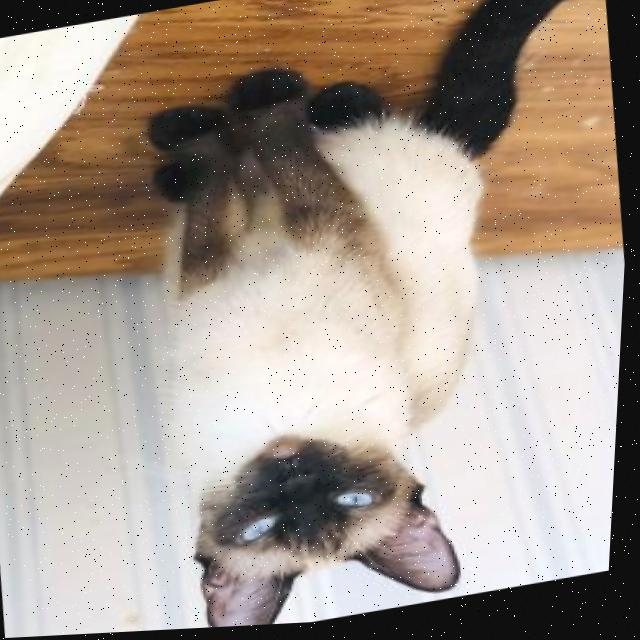Siamese: (107, 0, 640, 635)
